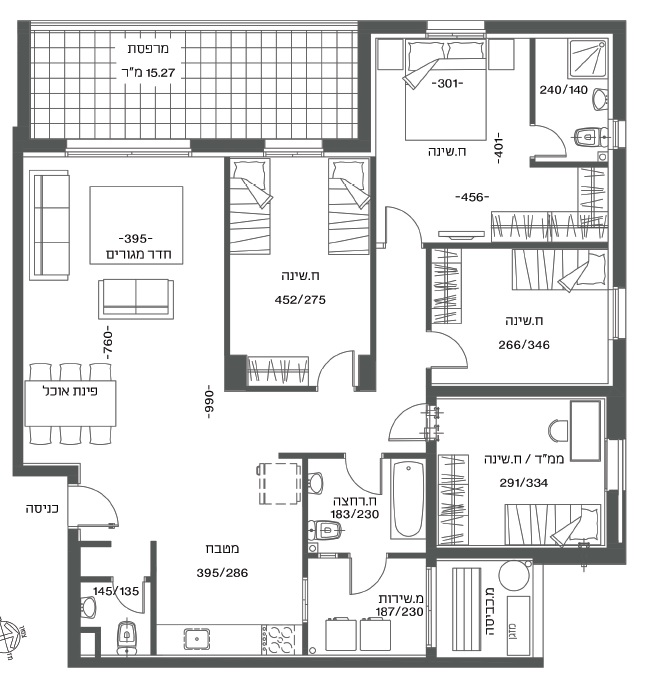door: (85, 479, 128, 533), (381, 195, 425, 238), (317, 341, 356, 383), (340, 463, 387, 497), (434, 329, 469, 374), (342, 562, 387, 597), (104, 589, 147, 620), (540, 120, 571, 160)
wall: (70, 658, 532, 669), (12, 130, 23, 472), (17, 21, 29, 153), (433, 388, 625, 396), (492, 22, 621, 32), (359, 25, 369, 147), (614, 154, 623, 280), (537, 550, 617, 563), (613, 344, 624, 437), (615, 23, 625, 114), (70, 537, 77, 662), (427, 441, 434, 558), (607, 494, 617, 563), (198, 141, 260, 151)
window: (65, 150, 193, 161), (422, 566, 434, 648), (610, 287, 622, 340), (425, 33, 488, 39), (611, 119, 620, 150)
